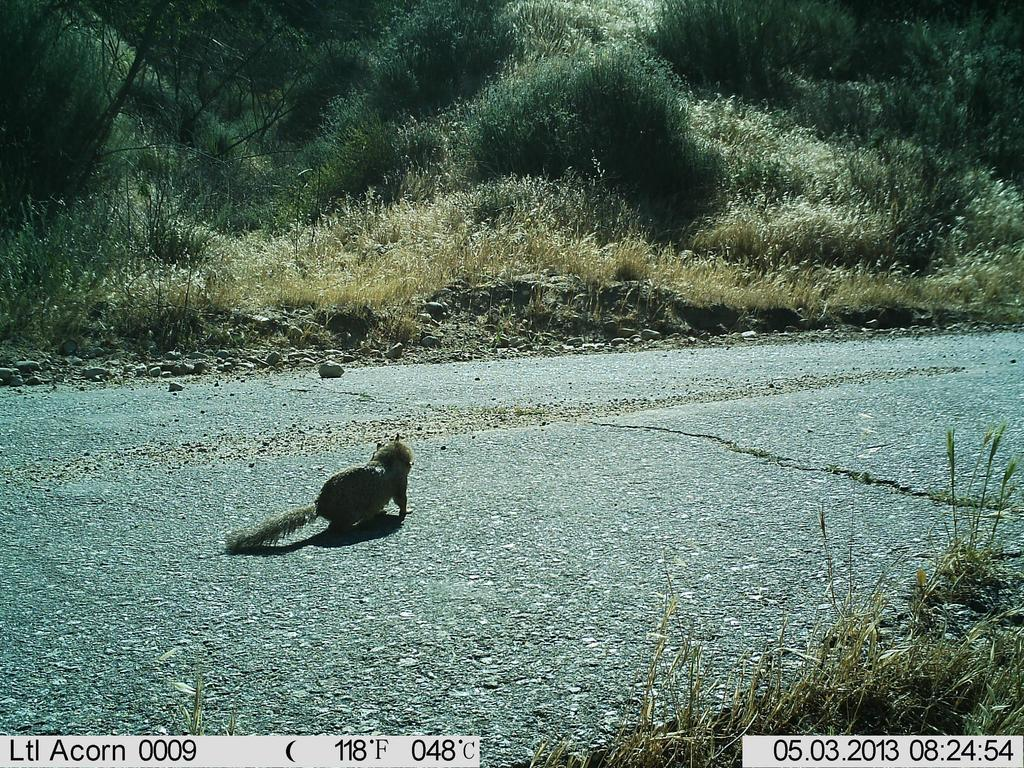squirrel: (214, 428, 417, 565)
